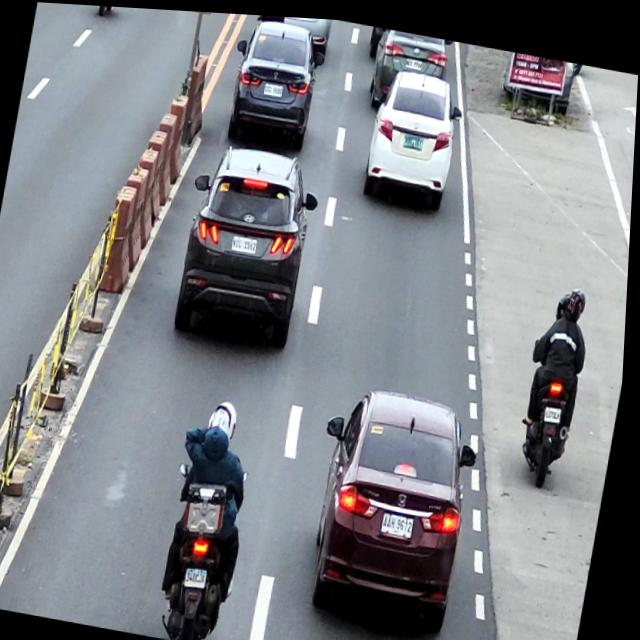Car: (301, 375, 489, 632), (172, 136, 327, 351), (358, 61, 468, 206), (220, 12, 329, 151), (367, 22, 452, 115)
License-Plate: (385, 507, 419, 533), (189, 564, 214, 586), (233, 231, 260, 251), (403, 129, 425, 147), (547, 398, 565, 417), (263, 79, 284, 95), (405, 52, 423, 65)
Motorcycle: (156, 456, 253, 640), (516, 329, 588, 486)
